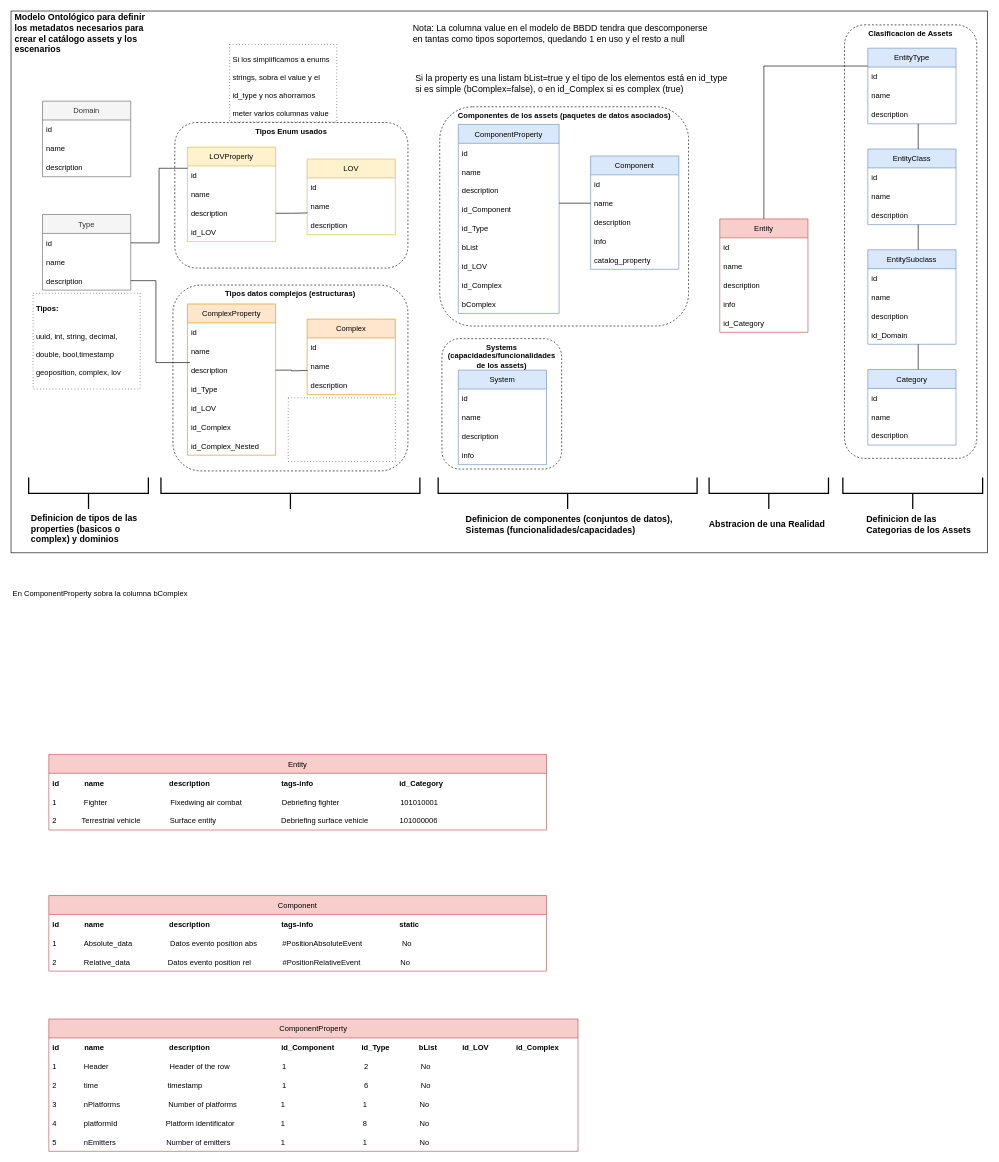
This 999x1162 diagram has some shape labels left out. The shapes that lost their labels are listed below. From the top down, each one's centre as x and y in pixels, then its label:
pixel 341 429: Si un component complex anida property complex, se define en *_Nested
pixel 290 493: Definicion de los tipos enumerados y estructuras de datos requeridos
